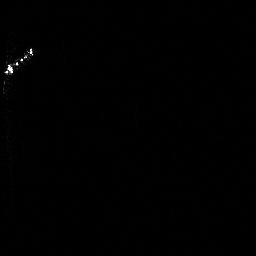ship: (1, 46, 34, 93)
